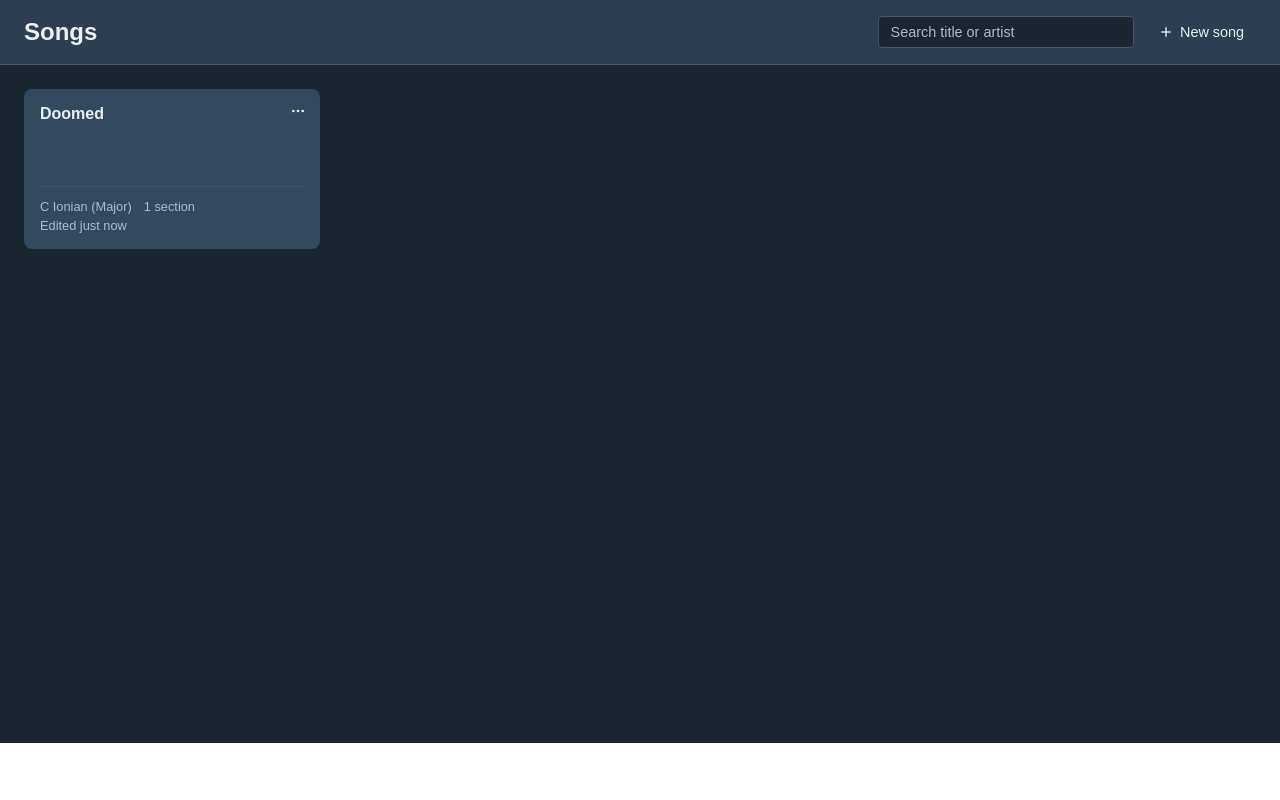
Test: SongLibraryPageComponent › Delete › asks first, naming the song, and removes its card when the answer is yes
Step 1. Click the button with class "card-menu-toggle" → (298, 111), box x1=285 y1=97 x2=312 y2=125
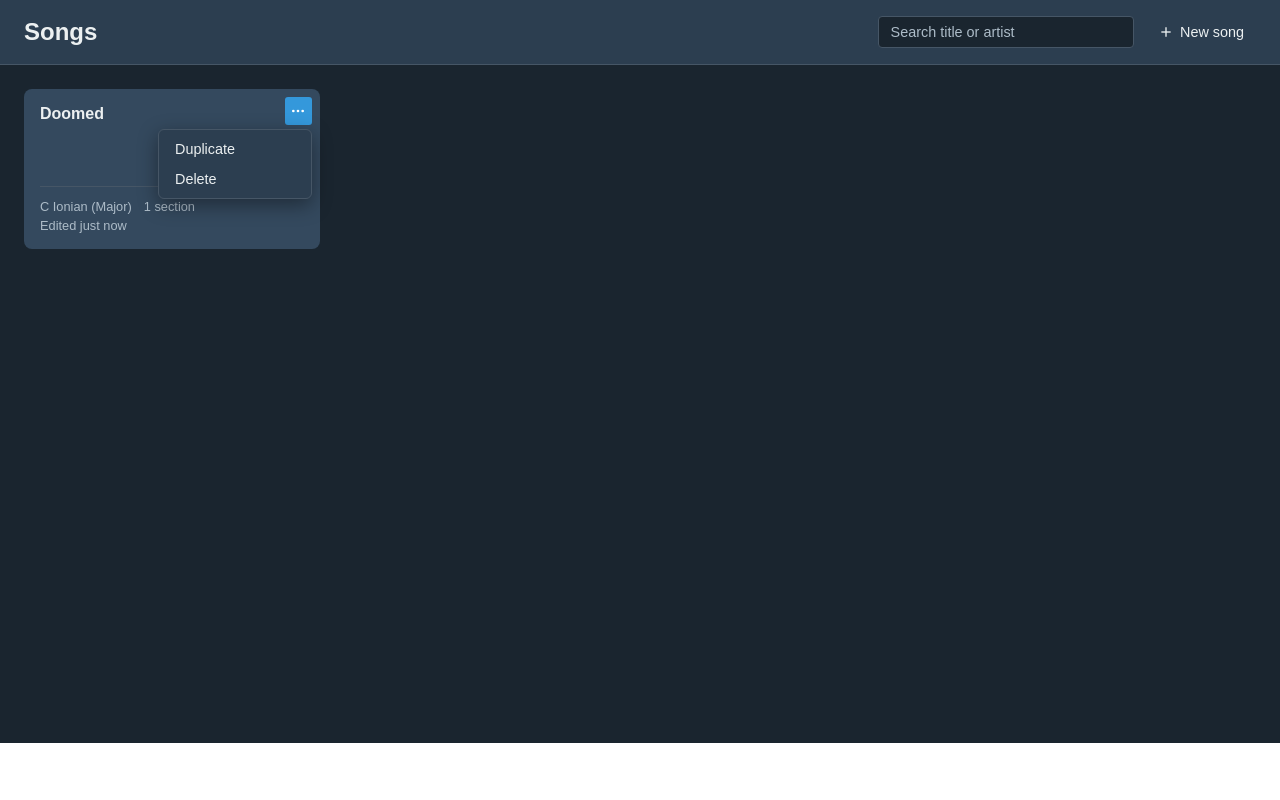
Step 2. Click the button with class "card-delete" → (235, 179), box x1=163 y1=164 x2=307 y2=194
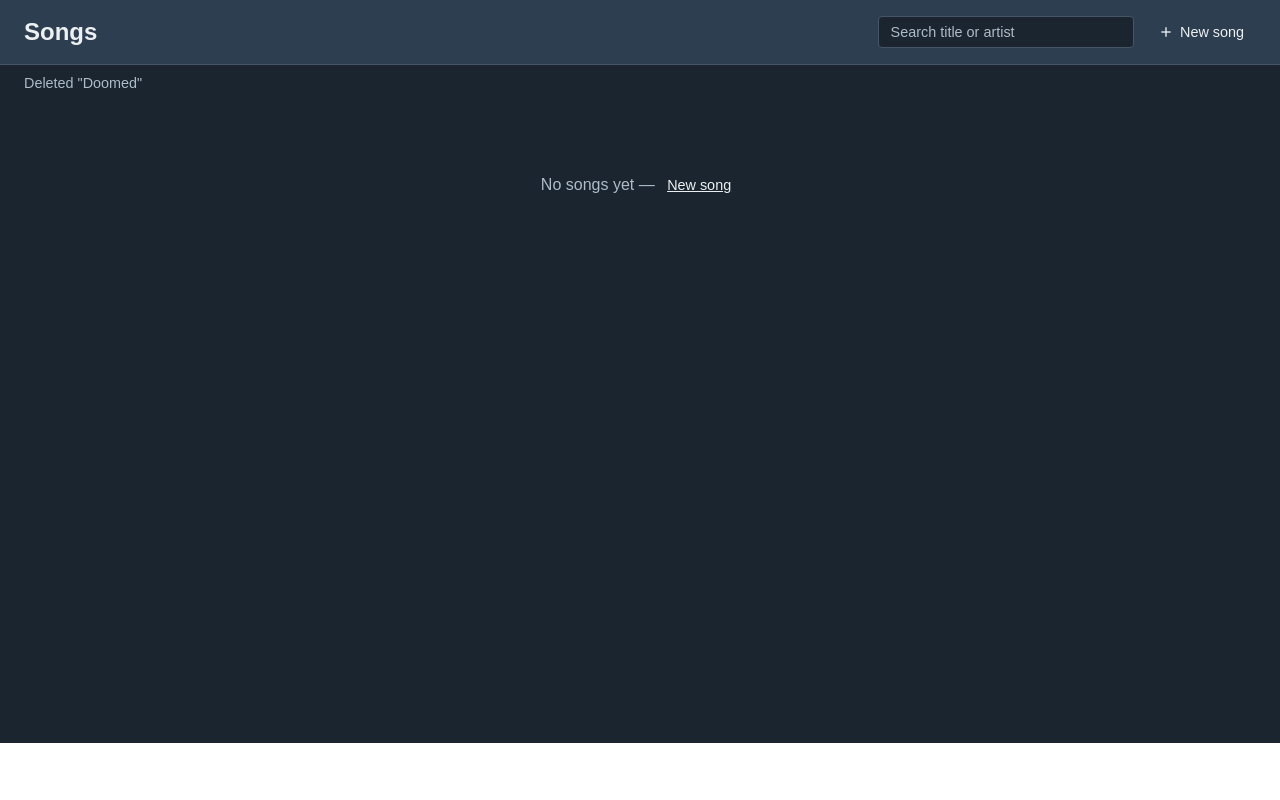
Check: the message "Deleted \"Doomed\"" reads "Deleted \"Doomed\"", box x1=24 y1=75 x2=142 y2=91
